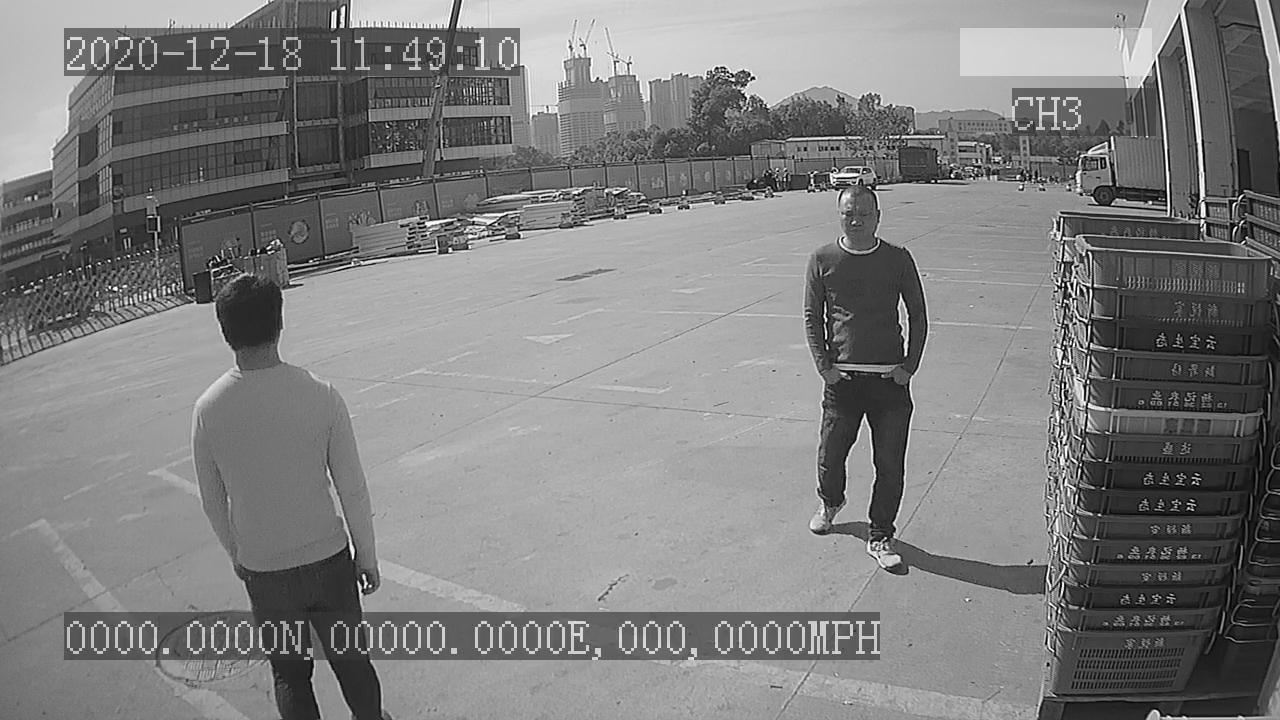person: (799, 181, 933, 577)
